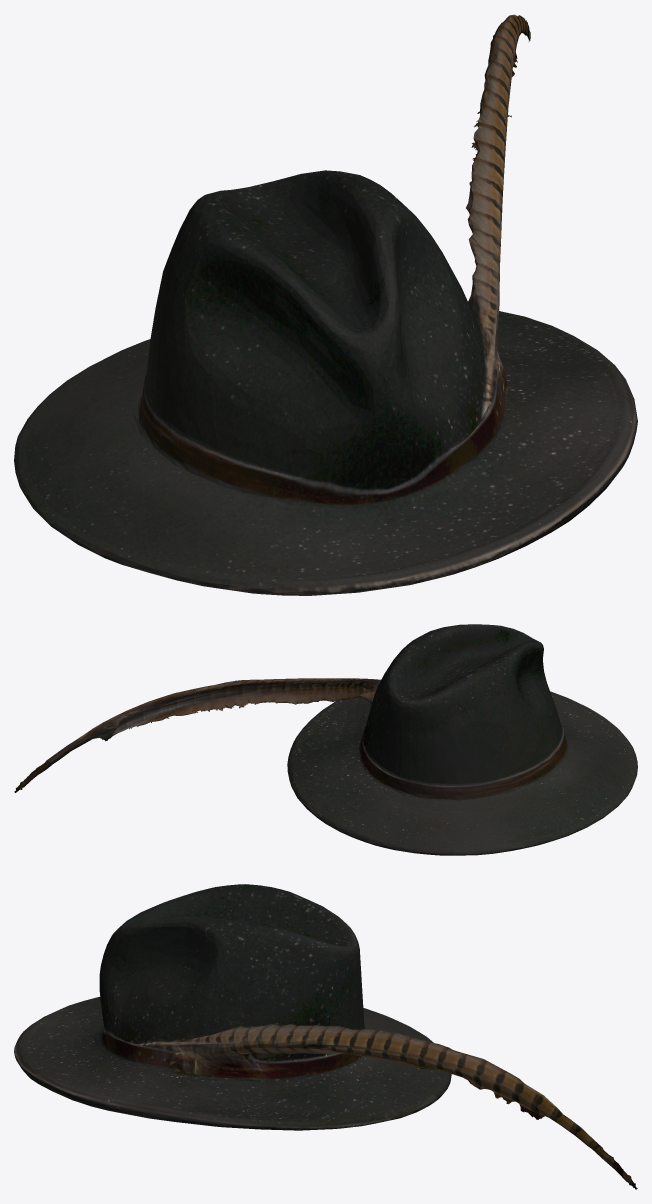
File: 115510A8-7CFA-7A4F-9469-949770CC86C9_2k.glb
The picture shows the model from 3 angles, top to bottom: view 1: azimuth 30°, elevation 25°; view 2: azimuth 150°, elevation 25°; view 3: azimuth 270°, elevation 25°; orthographic projection. The views are drawn at different scales.
Parts seen in each view (by area): view 1: Fasanenfederhut_7k_2k; view 2: Fasanenfederhut_7k_2k; view 3: Fasanenfederhut_7k_2k.
Boxes of the visible parts, <box> form: Fasanenfederhut_7k_2k: <box>14,14,637,595</box>; Fasanenfederhut_7k_2k: <box>14,624,637,855</box>; Fasanenfederhut_7k_2k: <box>14,884,637,1189</box>.
Bounding box in the file's own units: 0.4456 × 0.1447 × 0.4717.
1 material, 1 textured.
